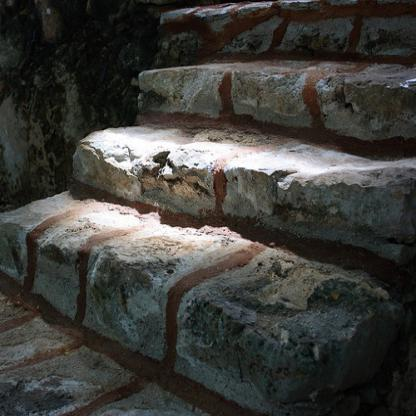stairs: (70, 39, 384, 400)
